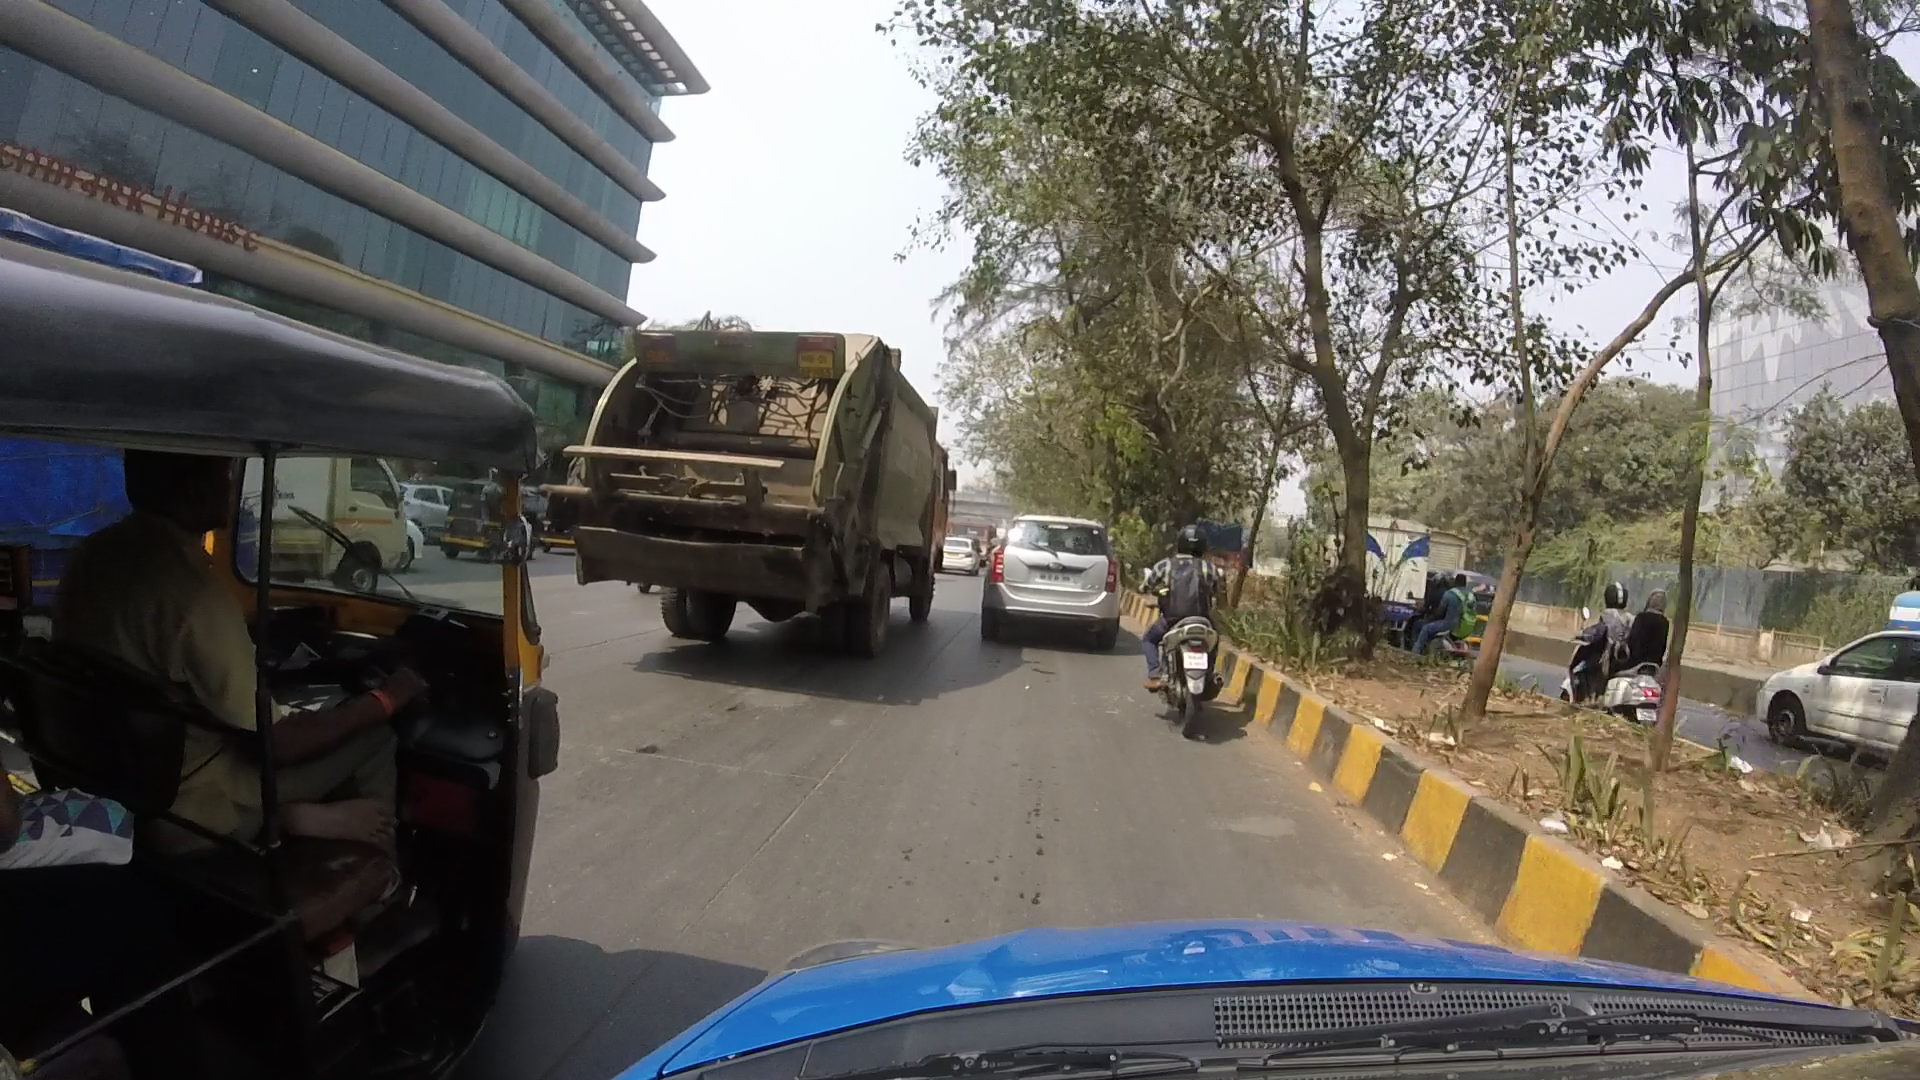bike/scooter: (1552, 589, 1677, 733), (1155, 524, 1234, 733)
car: (1760, 630, 1919, 760), (984, 516, 1122, 645), (396, 481, 455, 549)
rickshaw: (5, 269, 566, 1080), (443, 480, 527, 563)
truck: (579, 324, 963, 659), (258, 462, 421, 593)
